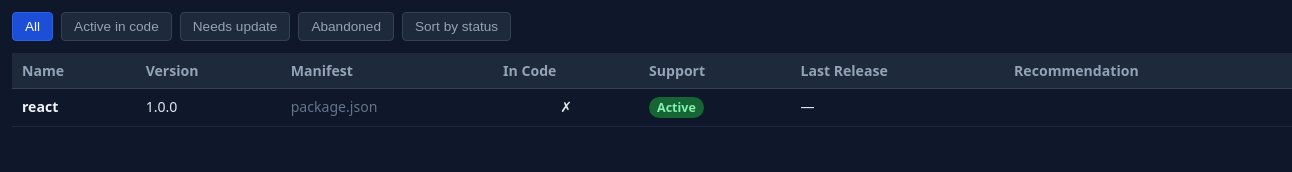
Scenario: TechnologyTable › shows empty state message when no abandoned techs
Click the button "Abandoned".
click(346, 26)  # box [298, 12, 394, 41]
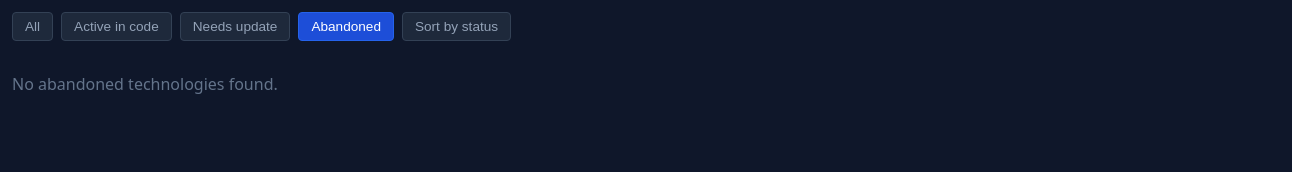
Now the text "No abandoned technologies found." is shown, box [12, 73, 278, 95]
